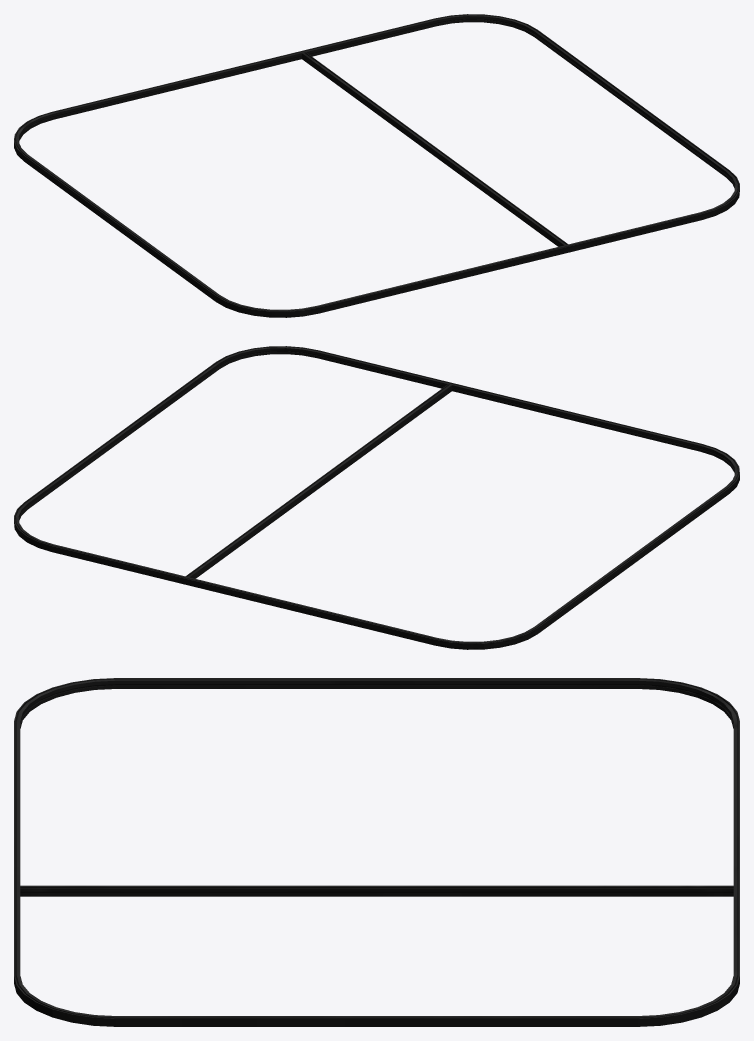
Rendered from TofRing.glb.
3 views of the same model, one above another, from view 1: azimuth 30°, elevation 25°; view 2: azimuth 150°, elevation 25°; view 3: azimuth 270°, elevation 25° (orthographic). The views are drawn at different scales.
Visible parts, largest first — view 1: Asset3DLoader.sceneRoot; view 2: Asset3DLoader.sceneRoot; view 3: Asset3DLoader.sceneRoot.
Part boxes in pixels (bbox=[...]): Asset3DLoader.sceneRoot: bbox=[14, 14, 739, 317]; Asset3DLoader.sceneRoot: bbox=[14, 346, 739, 649]; Asset3DLoader.sceneRoot: bbox=[14, 678, 739, 1026].
Bounding box in the file's own units: 4020 × 45 × 3620.
1 material, 1 textured.
